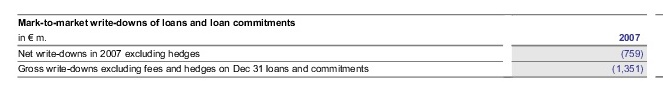table: (0, 0, 663, 95)
